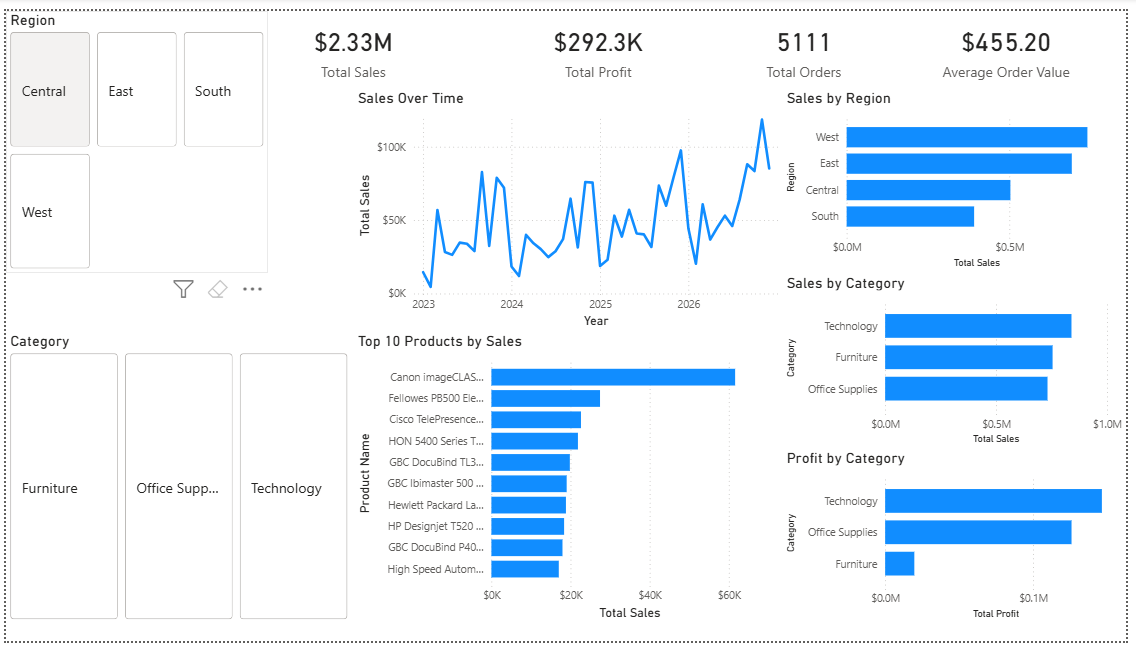

The dashboard page shown, as its layout file describes it:
{"tool":"powerbi","page":{"name":"Page 1","canvas":[1280,720],"ordinal":0},"visuals":[{"type":"card","fields":{"Values":["sample_-_superstore.Total Sales"]},"box":[256.7,1.7,280,86.7],"z":0},{"type":"card","fields":{"Values":["sample_-_superstore.Total Profit"]},"box":[536.7,1.7,280,86.7],"z":1000},{"type":"card","fields":{"Values":["sample_-_superstore.Total Orders"]},"box":[818.3,1.7,186.7,86.7],"z":2000},{"type":"card","fields":{"Values":["sample_-_superstore.Average Order Value"]},"box":[1005,1.7,275,86.7],"z":3000},{"type":"lineChart","title":"Sales Over Time","fields":{"Y":["sample_-_superstore.Total Sales"],"Category":["sample_-_superstore.Order Date.Variation.Date Hierarchy.Year","sample_-_superstore.Order Date.Variation.Date Hierarchy.Quarter","sample_-_superstore.Order Date.Variation.Date Hierarchy.Month","sample_-_superstore.Order Date.Variation.Date Hierarchy.Day"]},"box":[396.7,88.3,493.3,278.3],"z":4000},{"type":"barChart","title":"Sales by Region","fields":{"Y":["sample_-_superstore.Total Sales"],"Category":["sample_-_superstore.Region"]},"box":[886.7,88.3,393.3,210],"z":5000},{"type":"barChart","title":"Sales by Category","fields":{"Category":["sample_-_superstore.Category"],"Y":["sample_-_superstore.Total Sales"]},"box":[886.7,300,393.3,200],"z":6000},{"type":"barChart","title":"Profit by Category","fields":{"Category":["sample_-_superstore.Category"],"Y":["sample_-_superstore.Total Profit"]},"box":[886.7,500,393.3,200],"z":7000},{"type":"barChart","title":"Top 10 Products by Sales","fields":{"Category":["sample_-_superstore.Product Name"],"Y":["sample_-_superstore.Total Sales"]},"box":[396.7,366.7,493.3,333.3],"z":8000},{"type":"advancedSlicerVisual","fields":{"Values":["sample_-_superstore.Region"]},"box":[0,0,300,300],"z":8001},{"type":"advancedSlicerVisual","fields":{"Values":["sample_-_superstore.Category"]},"box":[0,366.7,396.7,333.3],"z":8002}]}

Visuals, with their boxes in screenshot pixels (x1, y1, x2, y2), scaled from the page's 1280x720 canvas onto the 1136x651 screenshot:
card - sample_-_superstore.Total Sales: (x1=228, y1=2, x2=476, y2=80)
card - sample_-_superstore.Total Profit: (x1=476, y1=2, x2=725, y2=80)
card - sample_-_superstore.Total Orders: (x1=726, y1=2, x2=892, y2=80)
card - sample_-_superstore.Average Order Value: (x1=892, y1=2, x2=1135, y2=80)
"Sales Over Time" lineChart: (x1=352, y1=80, x2=790, y2=331)
"Sales by Region" barChart: (x1=787, y1=80, x2=1135, y2=270)
"Sales by Category" barChart: (x1=787, y1=271, x2=1135, y2=452)
"Profit by Category" barChart: (x1=787, y1=452, x2=1135, y2=633)
"Top 10 Products by Sales" barChart: (x1=352, y1=332, x2=790, y2=633)
advancedSlicerVisual - sample_-_superstore.Region: (x1=0, y1=0, x2=266, y2=271)
advancedSlicerVisual - sample_-_superstore.Category: (x1=0, y1=332, x2=352, y2=633)
